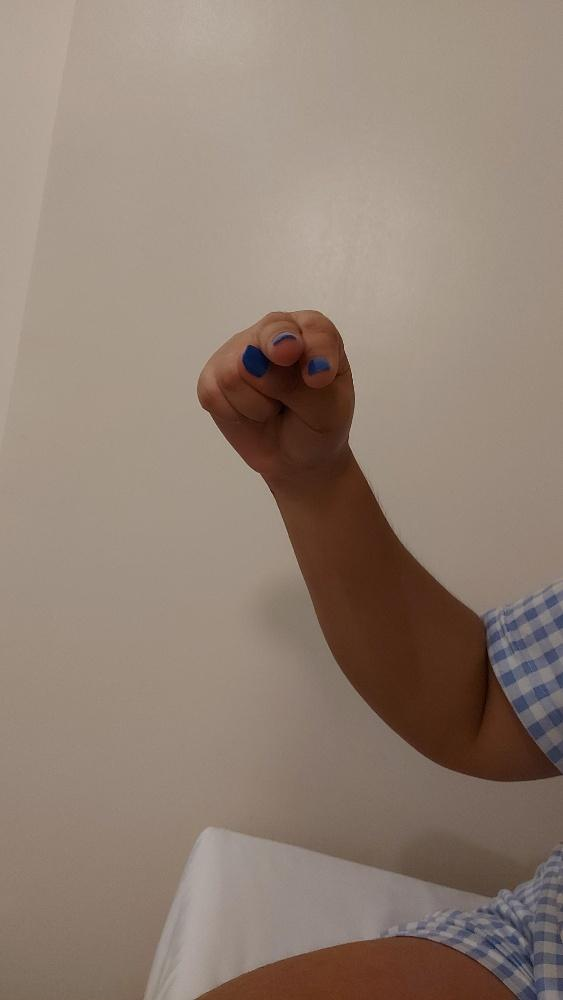n: (192, 306, 359, 481)
